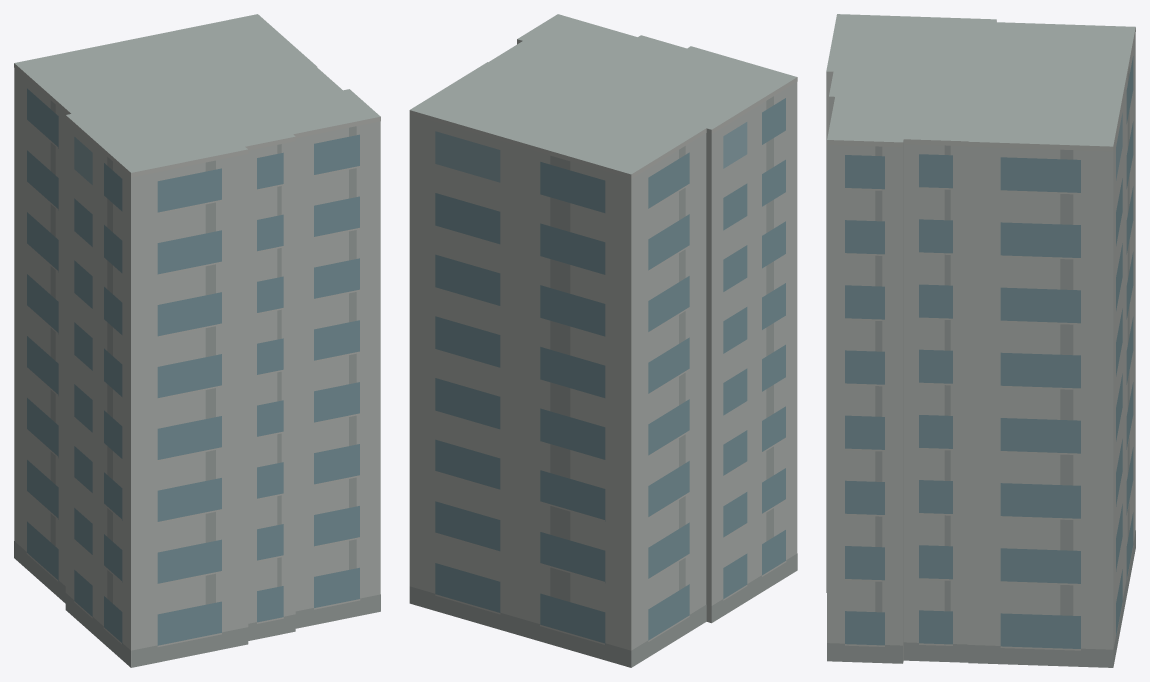
The model's file is survey-upis-32459591.glb.
3 renders of one model, left to right at view 1: azimuth 30°, elevation 25°; view 2: azimuth 150°, elevation 25°; view 3: azimuth 270°, elevation 25°, orthographic. The views are drawn at different scales.
Visible parts, largest first — view 1: survey-upis-32459591.tmp; view 2: survey-upis-32459591.tmp; view 3: survey-upis-32459591.tmp.
Part boxes in pixels (left/top/right/bottom): survey-upis-32459591.tmp: left=14, top=14, right=380, bottom=667; survey-upis-32459591.tmp: left=409, top=14, right=797, bottom=667; survey-upis-32459591.tmp: left=826, top=14, right=1135, bottom=667.
Size of the model in its own units: 14.27 by 26.15 by 14.08.
